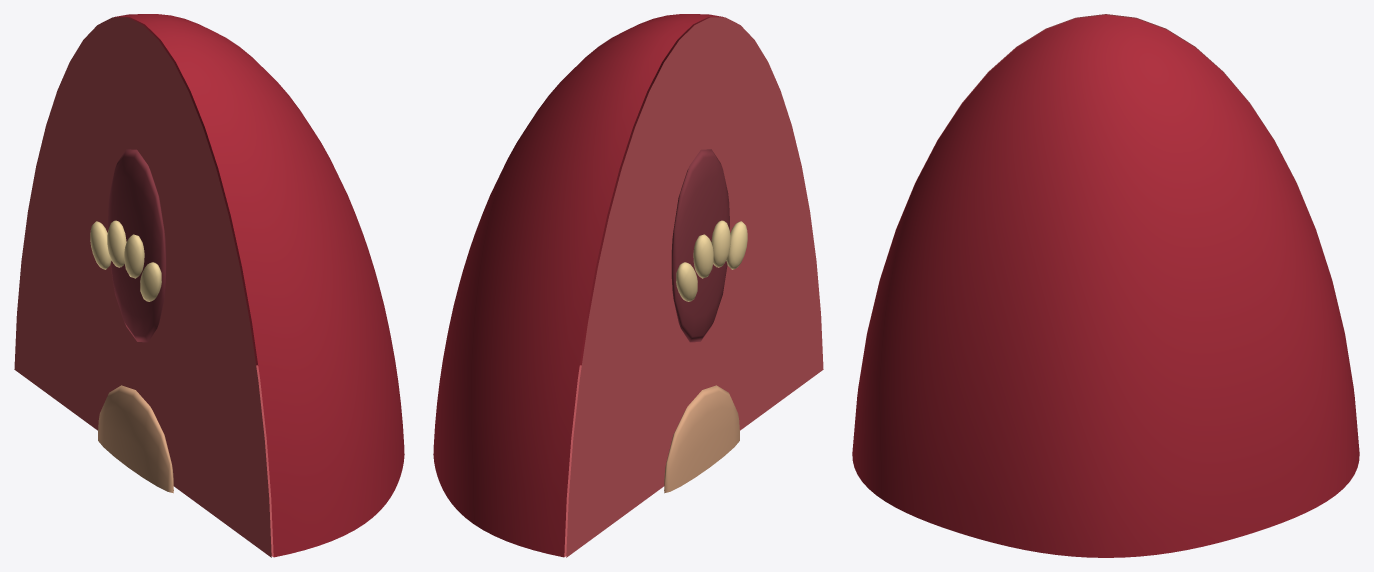
Rendered from grape_wedge.glb.
3 renders of one model, left to right at view 1: azimuth 30°, elevation 25°; view 2: azimuth 150°, elevation 25°; view 3: azimuth 270°, elevation 25°, orthographic.
Visible parts, largest first — view 1: Grape Grape translucent coral flesh, Grape Grape ruby waxed skin / Grape translucent coral flesh, Grape Two grape gel locules, Grape Grape narrow ivory pith / Grape translucent coral fles, Grape Small ivory grape seeds; view 2: Grape Grape translucent coral flesh, Grape Grape ruby waxed skin / Grape translucent coral flesh, Grape Two grape gel locules, Grape Grape narrow ivory pith / Grape translucent coral fles, Grape Small ivory grape seeds; view 3: Grape Grape ruby waxed skin / Grape translucent coral flesh, Grape Grape translucent coral flesh.
Boxes of the visible parts, x1=… form: Grape Grape translucent coral flesh: x1=14, y1=17, x2=271, y2=557; Grape Grape ruby waxed skin / Grape translucent coral flesh: x1=114, y1=14, x2=404, y2=557; Grape Two grape gel locules: x1=108, y1=149, x2=166, y2=342; Grape Grape narrow ivory pith / Grape translucent coral fles: x1=98, y1=385, x2=173, y2=493; Grape Small ivory grape seeds: x1=90, y1=220, x2=161, y2=301; Grape Grape translucent coral flesh: x1=566, y1=17, x2=823, y2=557; Grape Grape ruby waxed skin / Grape translucent coral flesh: x1=433, y1=14, x2=723, y2=557; Grape Two grape gel locules: x1=671, y1=149, x2=729, y2=342; Grape Grape narrow ivory pith / Grape translucent coral fles: x1=664, y1=385, x2=739, y2=493; Grape Small ivory grape seeds: x1=676, y1=220, x2=747, y2=301; Grape Grape ruby waxed skin / Grape translucent coral flesh: x1=852, y1=15, x2=1359, y2=557; Grape Grape translucent coral flesh: x1=858, y1=14, x2=1353, y2=388.
Size of the model in its own units: 0.3973 by 0.64 by 0.6825.
